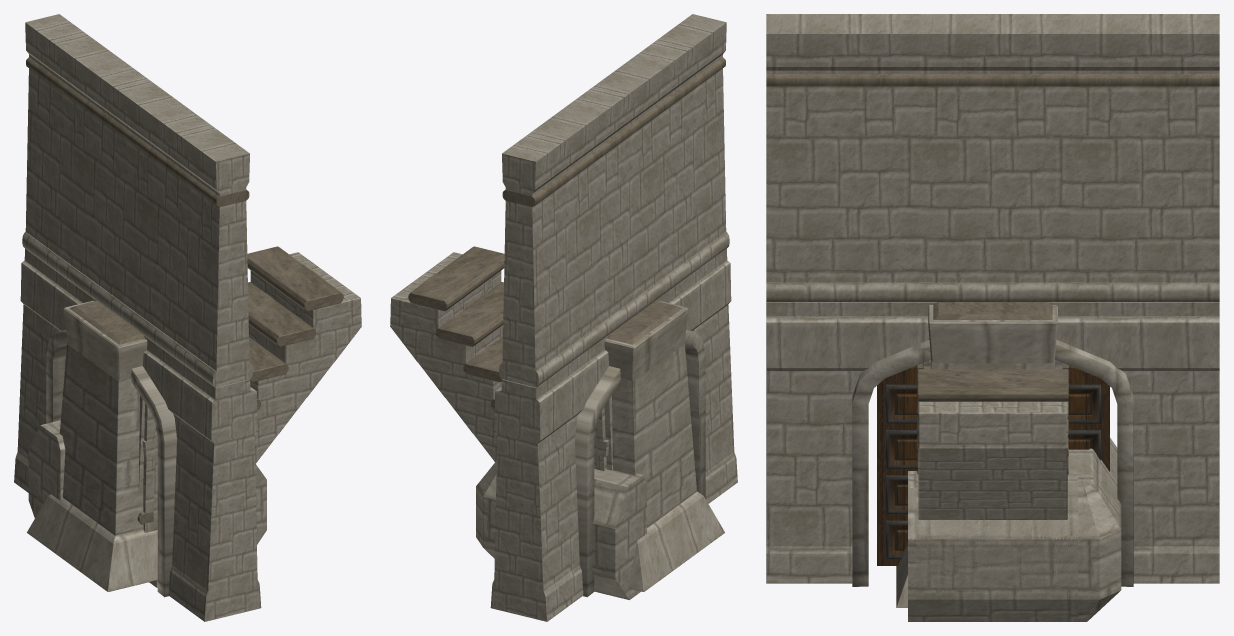
File: walls-keep-2.glb
The picture shows the model from 3 angles, left to right: view 1: azimuth 30°, elevation 25°; view 2: azimuth 150°, elevation 25°; view 3: azimuth 270°, elevation 25°; orthographic projection. The views are drawn at different scales.
Visible parts, largest first — view 1: TaperedWallTopWide, TaperedWallBottomDoorWide, TaperedPillarBottom, Stairs, TaperedPillarTop, BattlementMajorCorner, TaperedWallHalfBottom, BattlementMajor, TaperedWallBottom, TaperedWallBottomDoor; view 2: TaperedWallTopWide, TaperedWallBottomDoorWide, TaperedPillarBottom, Stairs, BattlementMajorCorner, TaperedPillarTop, TaperedWallBottomDoor, TaperedWallBottom; view 3: TaperedWallTopWide, TaperedWallBottomDoorWide, Stairs, BattlementMajorCorner, BattlementMajor, DoorRight, TaperedPillarTop, TaperedPillarBottom, DoorLeft.
Part boxes in pixels (bbox=[...]): TaperedWallTopWide: bbox=[22, 14, 252, 387]; TaperedWallBottomDoorWide: bbox=[14, 248, 261, 621]; TaperedPillarBottom: bbox=[27, 301, 157, 591]; Stairs: bbox=[137, 246, 361, 524]; TaperedPillarTop: bbox=[63, 300, 147, 381]; BattlementMajorCorner: bbox=[28, 420, 65, 517]; TaperedWallHalfBottom: bbox=[143, 336, 155, 532]; BattlementMajor: bbox=[149, 464, 266, 587]; TaperedWallBottom: bbox=[88, 295, 155, 532]; TaperedWallBottomDoor: bbox=[138, 395, 144, 493]; TaperedWallTopWide: bbox=[499, 14, 729, 387]; TaperedWallBottomDoorWide: bbox=[490, 248, 737, 621]; TaperedPillarBottom: bbox=[607, 301, 724, 591]; Stairs: bbox=[390, 246, 504, 461]; BattlementMajorCorner: bbox=[476, 461, 646, 599]; TaperedPillarTop: bbox=[604, 300, 688, 381]; TaperedWallBottomDoor: bbox=[602, 395, 612, 470]; TaperedWallBottom: bbox=[596, 336, 608, 470]; TaperedWallTopWide: bbox=[766, 14, 1219, 301]; TaperedWallBottomDoorWide: bbox=[766, 302, 1219, 586]; Stairs: bbox=[917, 369, 1068, 519]; BattlementMajorCorner: bbox=[916, 438, 1121, 621]; BattlementMajor: bbox=[908, 471, 1077, 621]; DoorRight: bbox=[877, 365, 917, 565]; TaperedPillarTop: bbox=[928, 305, 1057, 363]; TaperedPillarBottom: bbox=[896, 302, 1055, 607]; DoorLeft: bbox=[1068, 365, 1109, 471].
Size of the model in its own units: 2.39 by 4.1 by 3.
Materials: 6 (4 with a texture image).
